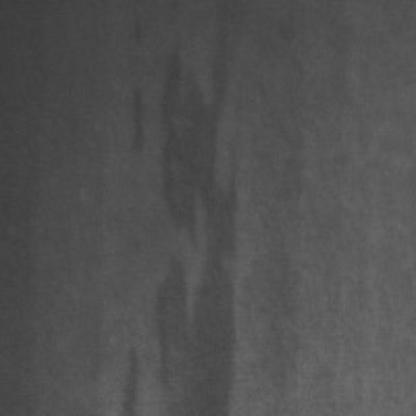inclusion: (146, 50, 237, 410)
